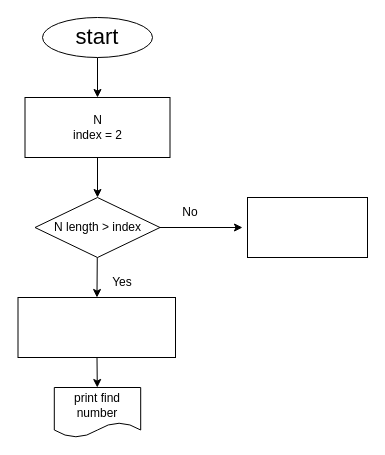
This 385x455 diagram has some shape labels left out. The centre of each missing label's shape, as x and y in pixels:
find number = N[index]: pixel 96 327
Third number is not found: pixel 307 227
